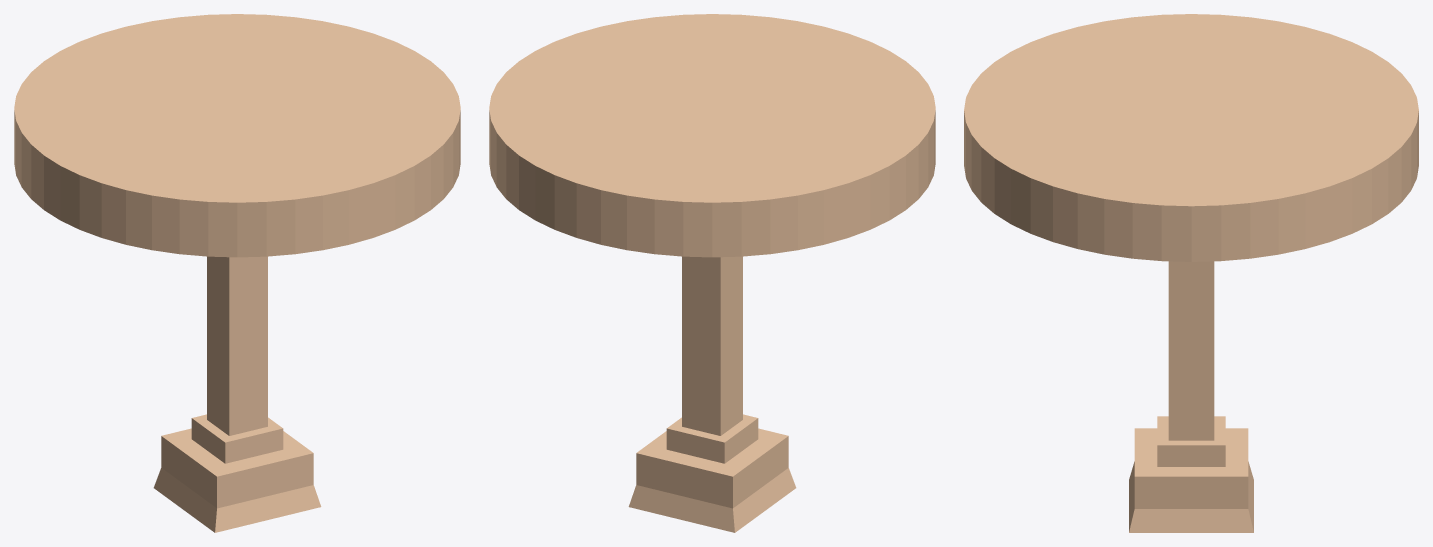
The picture shows the model from 3 angles, left to right: view 1: azimuth 30°, elevation 25°; view 2: azimuth 150°, elevation 25°; view 3: azimuth 270°, elevation 25°; orthographic projection.
Parts seen in each view (by area): view 1: side-table-round-board, side-table-round-support, side-table-top; view 2: side-table-round-board, side-table-round-support, side-table-top; view 3: side-table-round-board, side-table-top, side-table-round-support.
Part boxes in pixels (left/top/right/bottom): side-table-round-board: left=14, top=14, right=460, bottom=257; side-table-round-support: left=153, top=256, right=321, bottom=532; side-table-top: left=79, top=46, right=395, bottom=169; side-table-round-board: left=489, top=14, right=935, bottom=257; side-table-round-support: left=628, top=256, right=796, bottom=532; side-table-top: left=554, top=46, right=870, bottom=169; side-table-round-board: left=964, top=14, right=1418, bottom=261; side-table-top: left=1095, top=54, right=1287, bottom=165; side-table-round-support: left=1129, top=261, right=1253, bottom=532.
Bounding box in the file's own units: 0.52 × 0.5 × 0.52.
